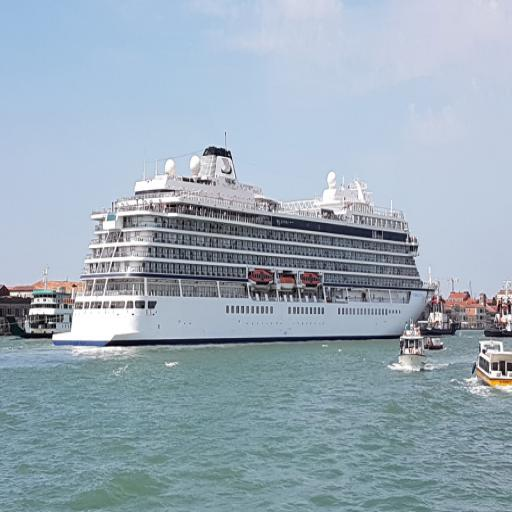cruises: (49, 139, 439, 353)
